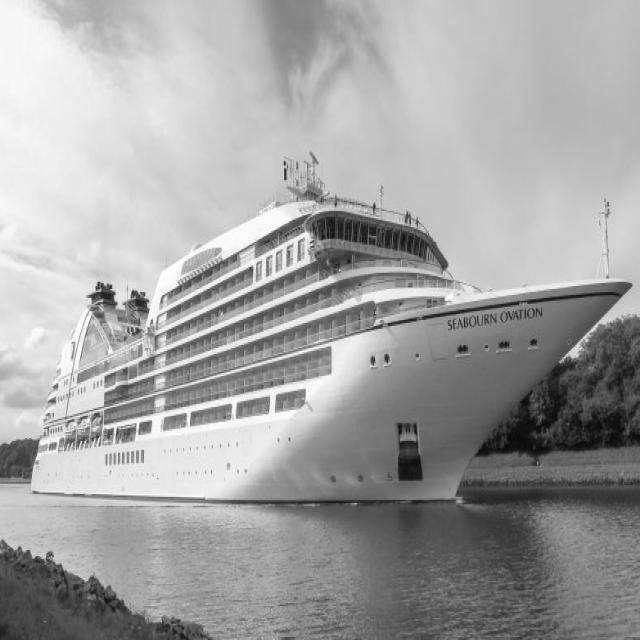cruises: (27, 151, 636, 520)
